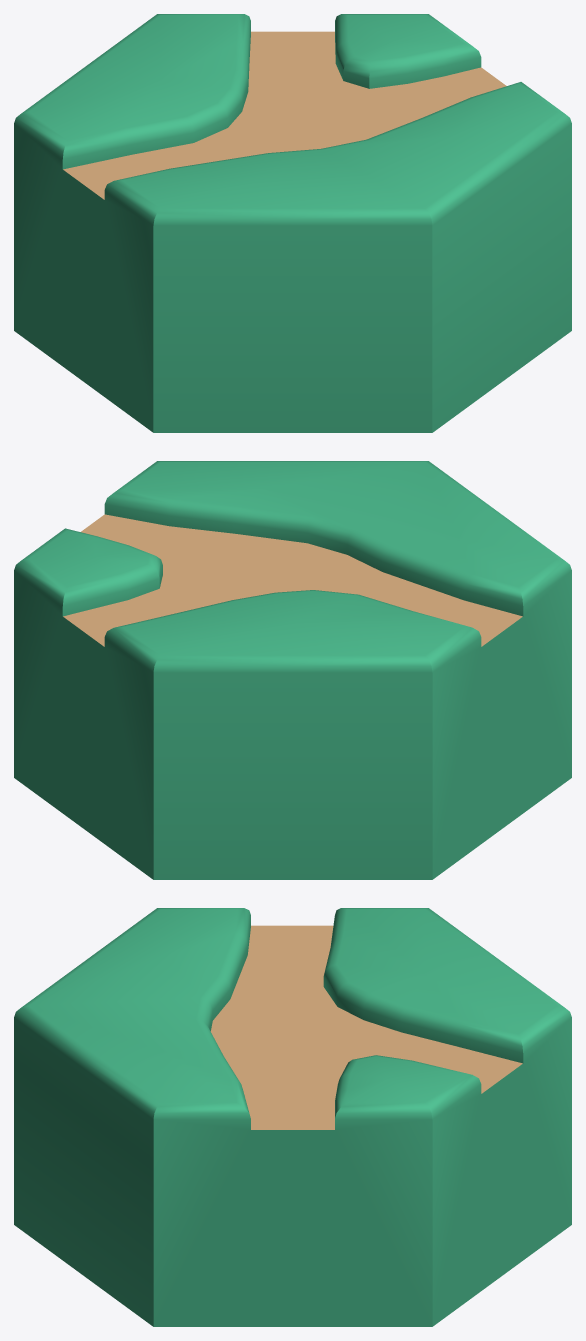
Rendered from hex_forest_roadF.glb.
The picture shows the model from 3 angles, top to bottom: view 1: azimuth 30°, elevation 25°; view 2: azimuth 150°, elevation 25°; view 3: azimuth 270°, elevation 25°; orthographic projection.
Parts seen in each view (by area): view 1: hex_forest_roadF; view 2: hex_forest_roadF; view 3: hex_forest_roadF.
Boxes of the visible parts, x1,y1,x2,y2 form: hex_forest_roadF: [14, 14, 571, 432]; hex_forest_roadF: [14, 461, 571, 879]; hex_forest_roadF: [14, 908, 571, 1326].
Bounding box in the file's own units: 2 × 1 × 2.31.
